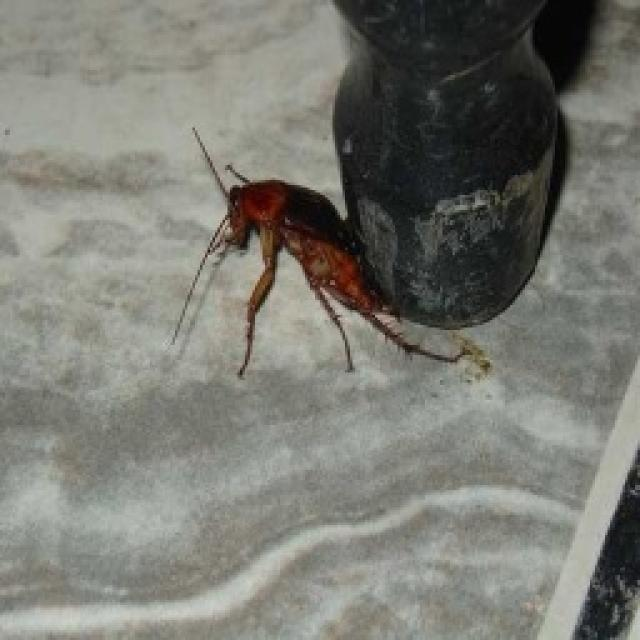cockroach: (164, 123, 494, 384)
